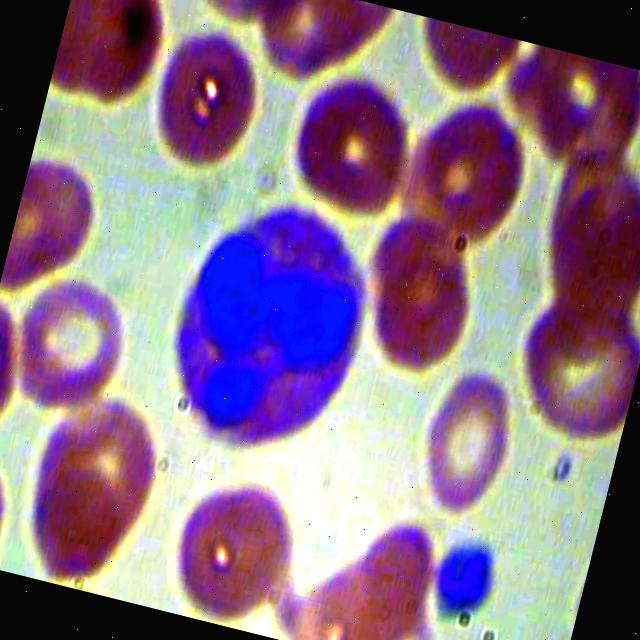Platelets: (418, 528, 514, 628)
RBC: (152, 452, 324, 634), (274, 59, 436, 230), (391, 83, 544, 263), (495, 275, 640, 454), (0, 255, 140, 425), (132, 13, 272, 178), (404, 356, 538, 528), (0, 146, 112, 318)
WBC: (139, 170, 395, 474)
